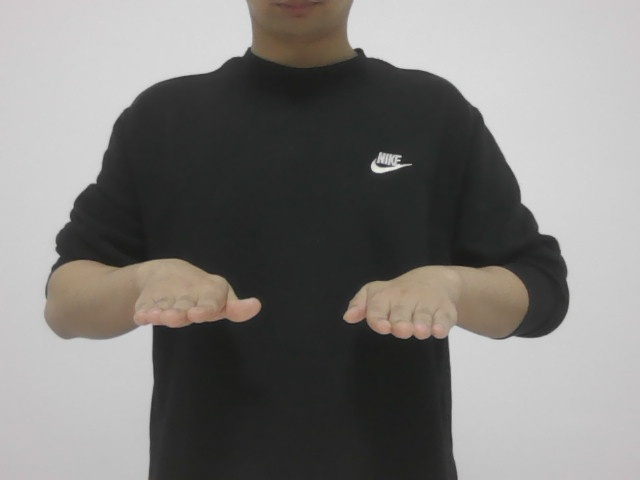flat: (115, 247, 465, 346)
